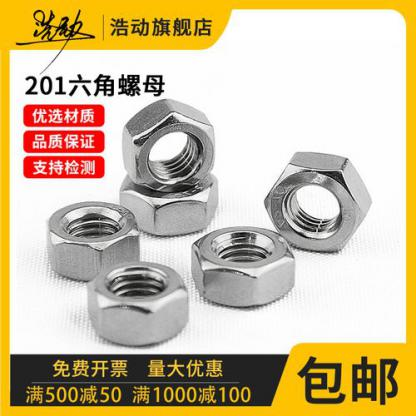FOD: (262, 150, 374, 256), (84, 258, 191, 348), (119, 96, 218, 191), (188, 225, 298, 308), (44, 200, 143, 284), (117, 166, 221, 236)
